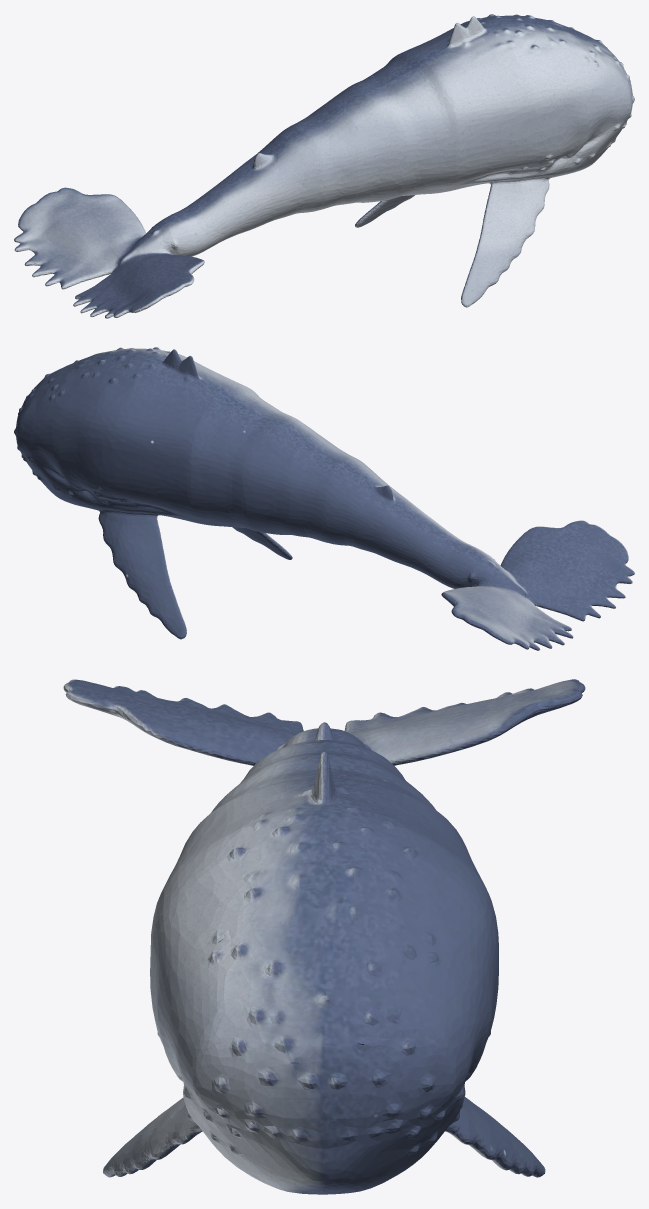
Rendered from creature-whale-lite.glb.
3 views of the same model, one above another, from view 1: azimuth 30°, elevation 25°; view 2: azimuth 150°, elevation 25°; view 3: azimuth 270°, elevation 25° (orthographic). The views are drawn at different scales.
Visible parts, largest first — view 1: HeroDragonMesh; view 2: HeroDragonMesh; view 3: HeroDragonMesh.
Part boxes in pixels (x1,y1,x2,y2): HeroDragonMesh: (14,14,634,318); HeroDragonMesh: (14,347,634,650); HeroDragonMesh: (63,679,585,1194).
Bounding box in the file's own units: 2 × 0.7987 × 0.8026.
Materials: 1 (1 with a texture image).
